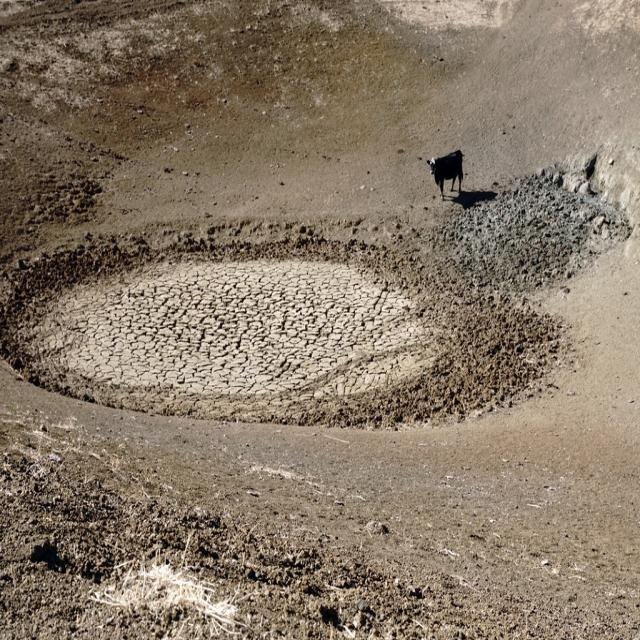Cattle: (428, 148, 462, 200)
